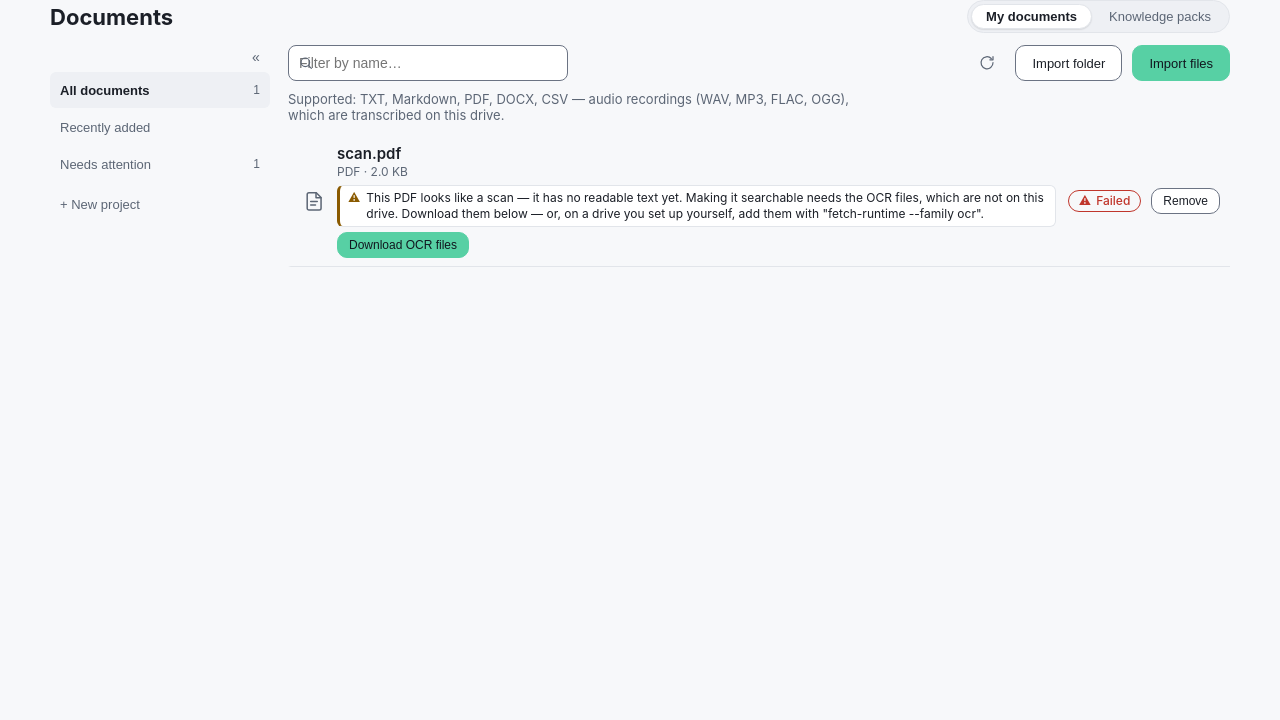
Scenario: OcrInstall — Documents rows (#410) › 8: a failed job shows the friendly failure and Retry re-opens the dialog
Click the button "Download OCR files": [403, 245] box [337,232,469,258]
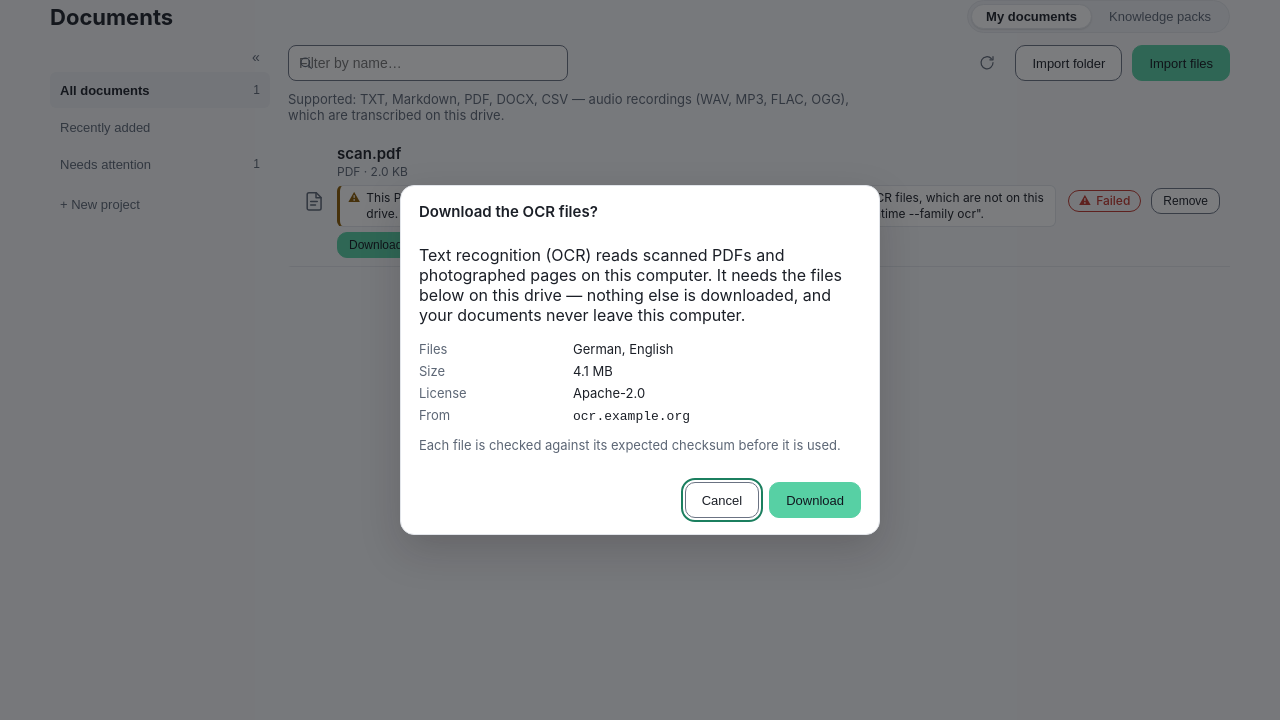
Click the button "Download": [815, 500] box [769,482,861,518]
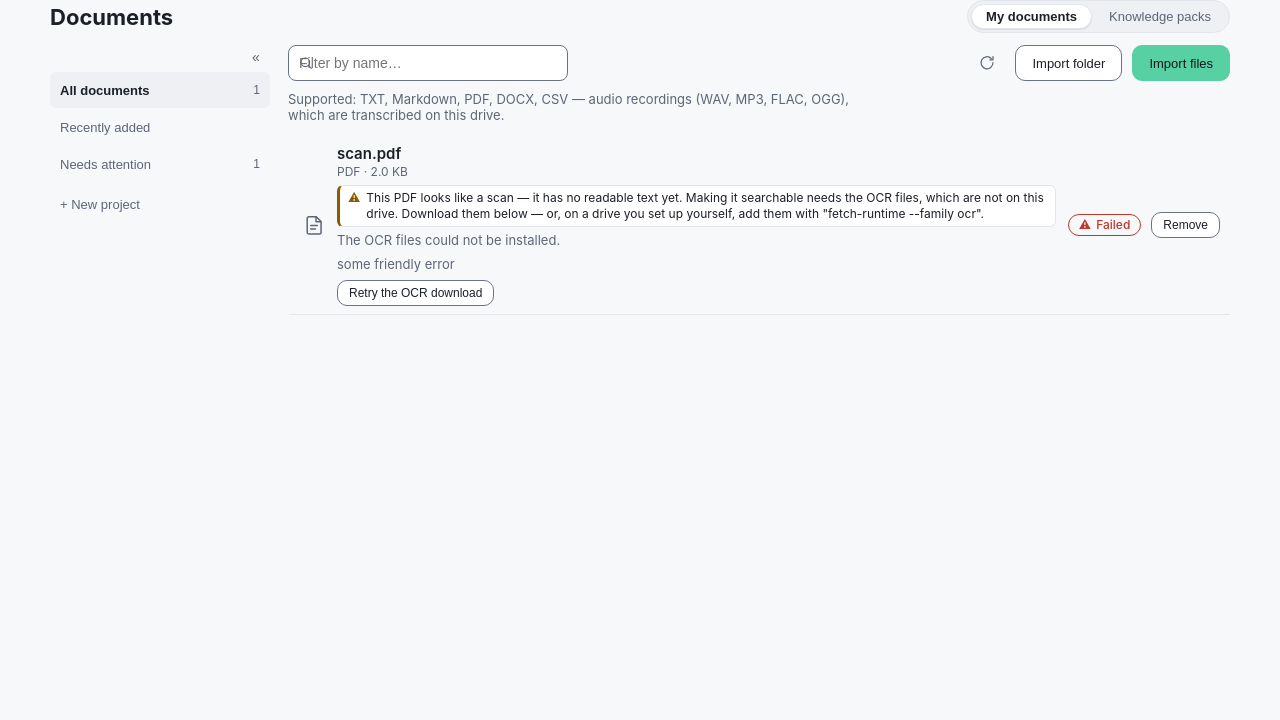
Check: the text "The OCR files could not be installed." is shown, box [337,232,560,248]
Check: the text "some friendly error" is shown, box [337,256,455,272]
Click the button "Retry the OCR download": [416, 293] box [337,280,494,306]
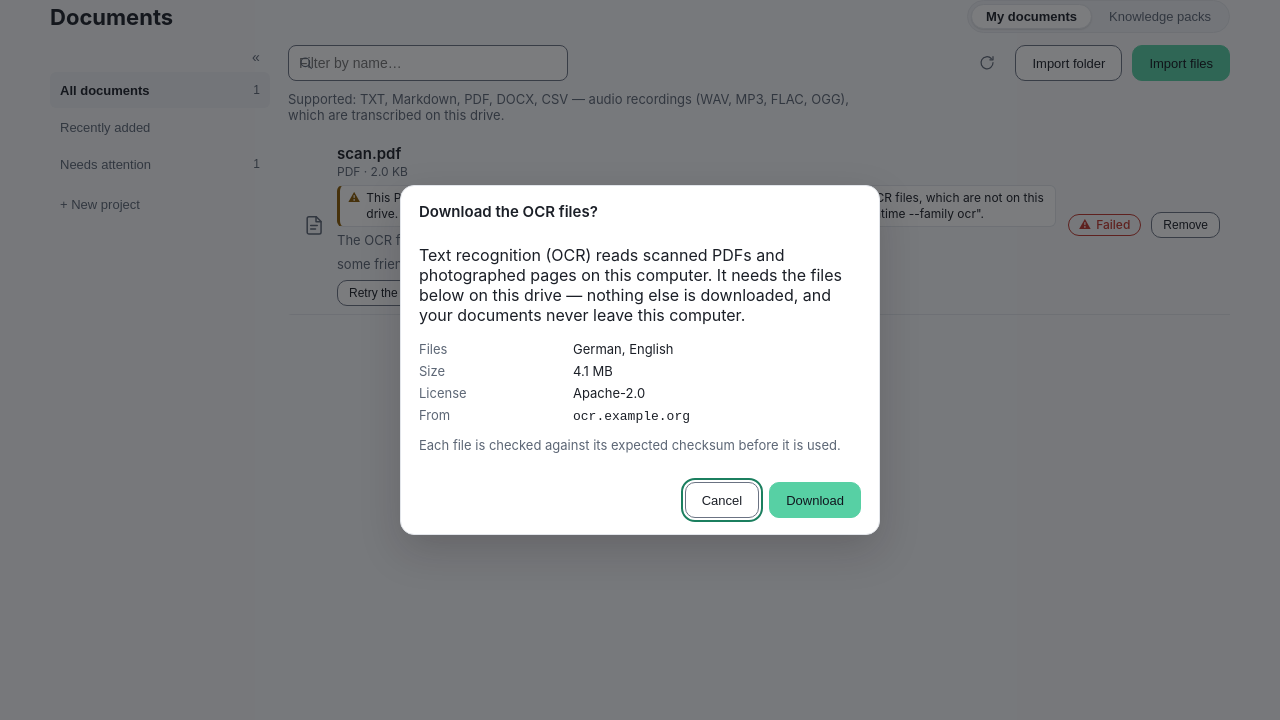
Check: the dialog is shown, box [400,185,880,535]
